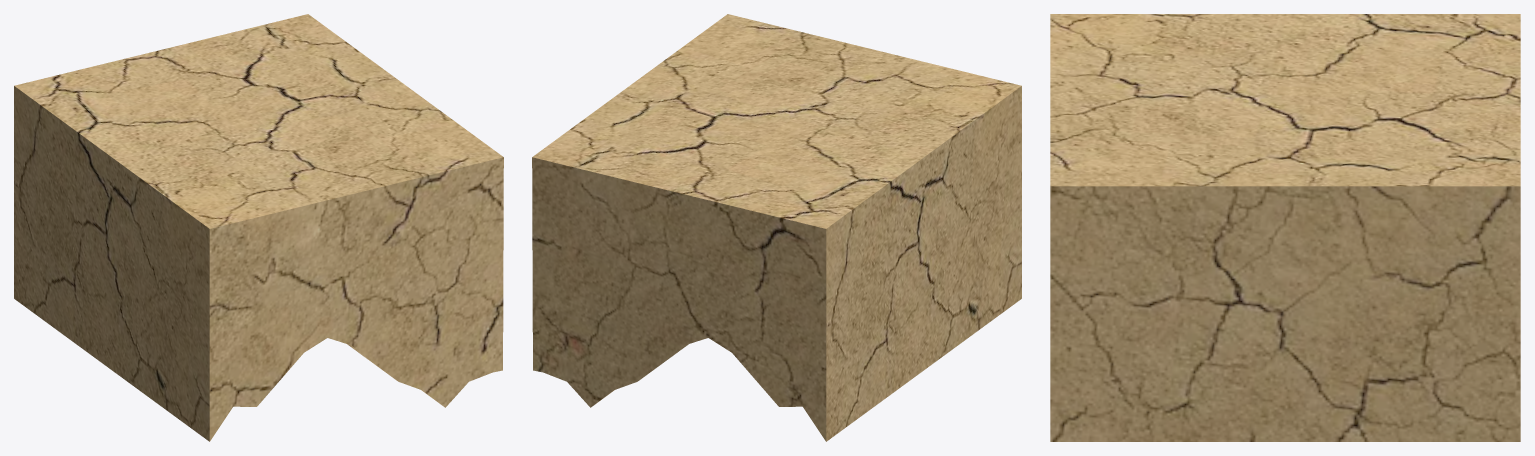
File: plataformaPicosFragmento.fbx
3 renders of one model, left to right at view 1: azimuth 30°, elevation 25°; view 2: azimuth 150°, elevation 25°; view 3: azimuth 270°, elevation 25°, orthographic. The views are drawn at different scales.
Parts seen in each view (by area): view 1: plataformaPicosFragmento; view 2: plataformaPicosFragmento; view 3: plataformaPicosFragmento.
Boxes of the visible parts, x1,y1,x2,y2 form: plataformaPicosFragmento: (14,14,503,441); plataformaPicosFragmento: (532,14,1021,441); plataformaPicosFragmento: (1050,14,1520,441).
Bounding box in the file's own units: 2.6 × 2 × 3.
1 material, 1 textured.
